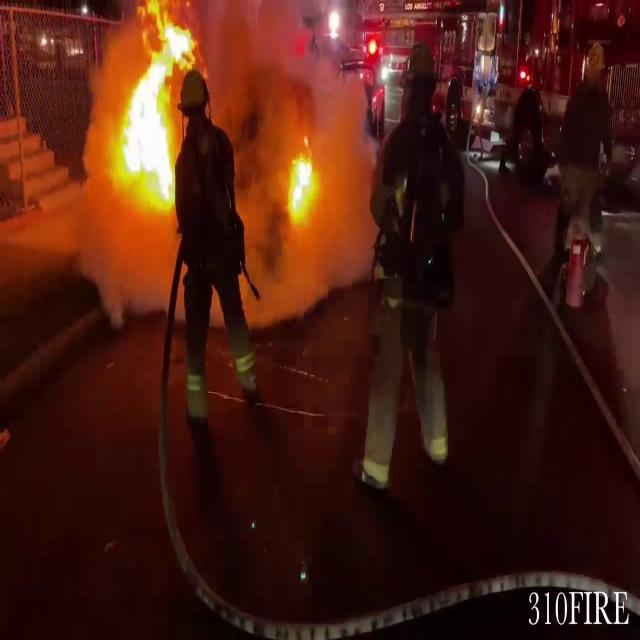Fire: (106, 2, 198, 216), (283, 140, 318, 230)
Smoke: (202, 0, 380, 306)
